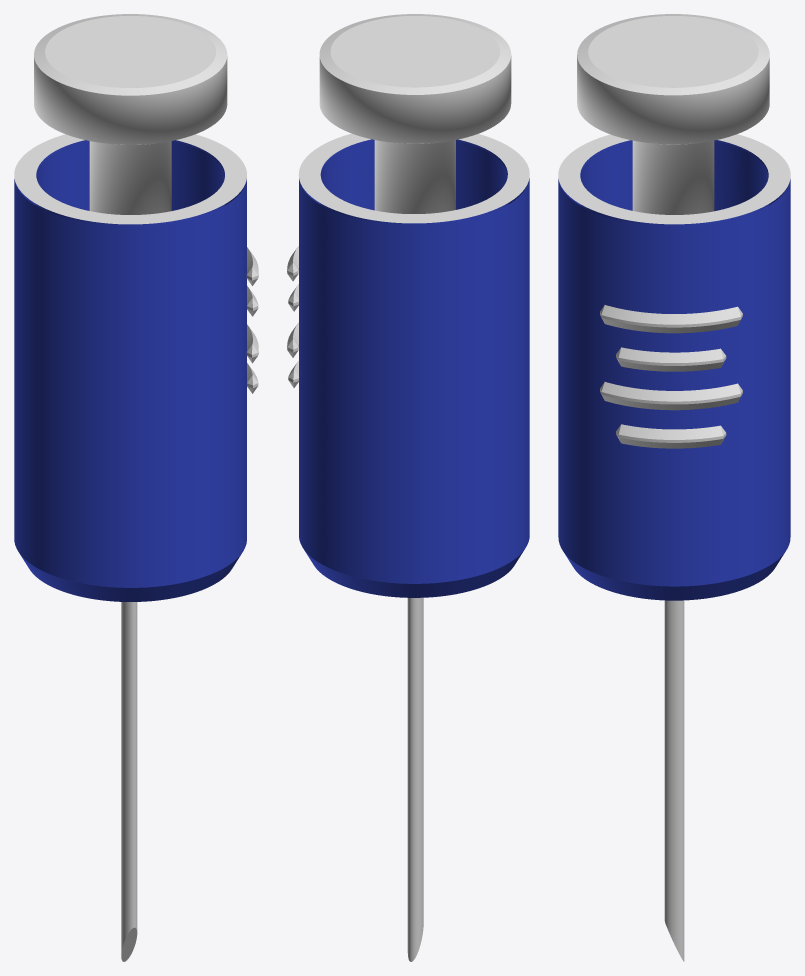
The model's file is Needle_new.fbx.
The picture shows the model from 3 angles, left to right: view 1: azimuth 30°, elevation 25°; view 2: azimuth 150°, elevation 25°; view 3: azimuth 270°, elevation 25°; orthographic projection.
Visible parts, largest first — view 1: Cylinder, Cylinder.003, Cylinder.007, Cylinder.001, Cylinder.004; view 2: Cylinder, Cylinder.003, Cylinder.007, Cylinder.001, Cylinder.004; view 3: Cylinder, Cylinder.003, Cylinder.004, Cylinder.007, Cylinder.001.
Boxes of the visible parts, bbox=[...] form: Cylinder: bbox=[14, 140, 246, 601]; Cylinder.003: bbox=[34, 14, 227, 214]; Cylinder.007: bbox=[121, 602, 137, 961]; Cylinder.001: bbox=[14, 134, 246, 224]; Cylinder.004: bbox=[246, 247, 258, 393]; Cylinder: bbox=[299, 139, 529, 597]; Cylinder.003: bbox=[319, 14, 511, 213]; Cylinder.007: bbox=[407, 597, 423, 961]; Cylinder.001: bbox=[298, 133, 529, 223]; Cylinder.004: bbox=[287, 246, 298, 387]; Cylinder: bbox=[558, 140, 790, 600]; Cylinder.003: bbox=[577, 14, 769, 214]; Cylinder.004: bbox=[600, 305, 742, 448]; Cylinder.007: bbox=[664, 600, 684, 961]; Cylinder.001: bbox=[558, 134, 790, 224].
Size of the model in its own units: 210 by 866 by 201.
